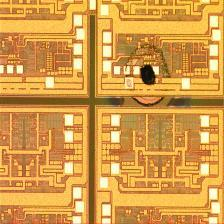PARTICLE: (121, 44, 174, 109)
